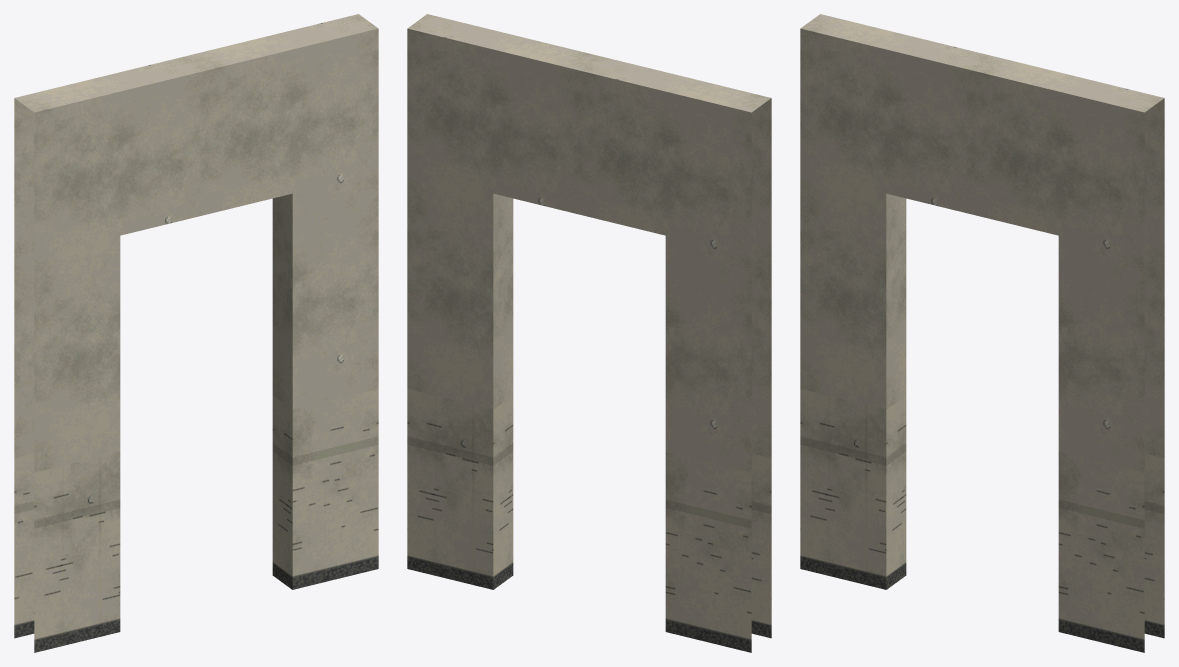
The model's file is wall_doorway.fbx.
3 renders of one model, left to right at view 1: azimuth 30°, elevation 25°; view 2: azimuth 150°, elevation 25°; view 3: azimuth 330°, elevation 25°, orthographic.
Visible parts, largest first — view 1: wall_doorway; view 2: wall_doorway; view 3: wall_doorway.
Part boxes in pixels (bbox=[...]): wall_doorway: bbox=[14, 14, 378, 652]; wall_doorway: bbox=[407, 14, 771, 652]; wall_doorway: bbox=[800, 14, 1164, 652].
Bounding box in the file's own units: 2 × 3 × 0.2.
